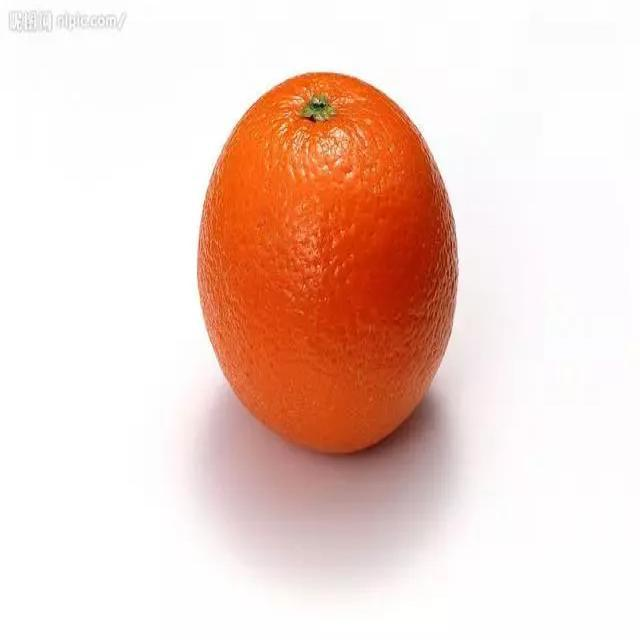Orange: (198, 72, 462, 459)
